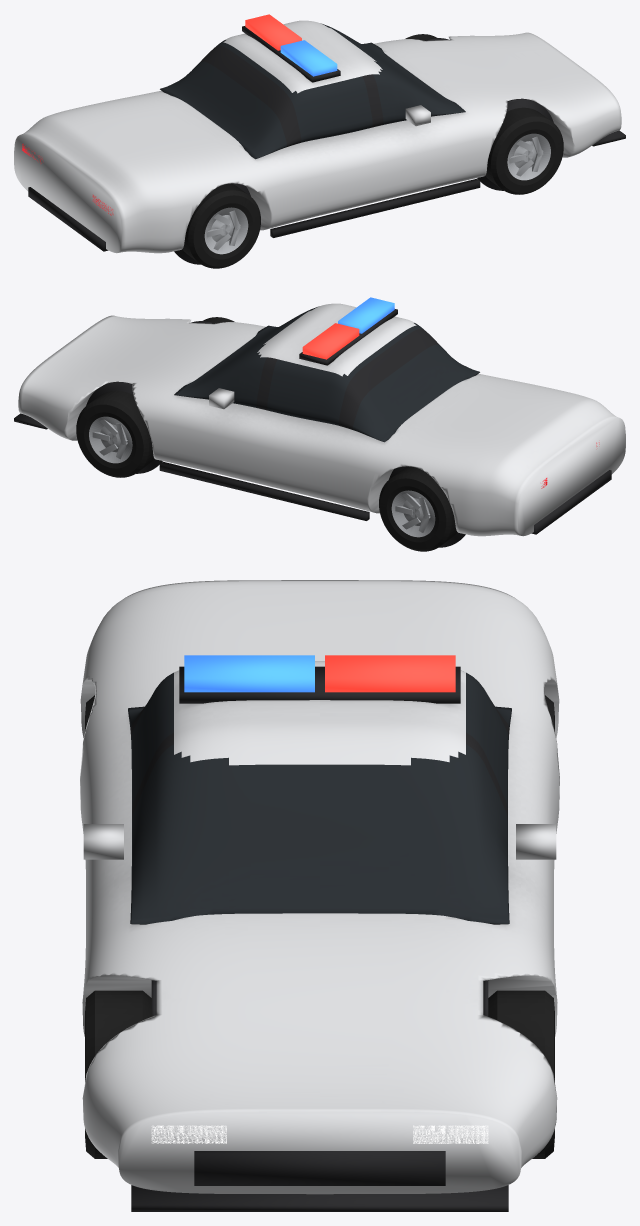
File: pace_car_lod0.glb
3 views of the same model, one above another, from view 1: azimuth 30°, elevation 25°; view 2: azimuth 150°, elevation 25°; view 3: azimuth 270°, elevation 25° (orthographic). The views are drawn at different scales.
Parts seen in each view (by area): view 1: Body, Tire_FR, Tire_RR; view 2: Body, Tire_FL, Tire_RL; view 3: Body, Tire_FL, Tire_FR.
Part boxes in pixels (x1,y1,x2,y2): Body: [14, 14, 625, 264]; Tire_FR: [485, 107, 563, 194]; Tire_RR: [182, 183, 260, 268]; Body: [14, 297, 625, 547]; Tire_FL: [76, 390, 154, 477]; Tire_RL: [379, 466, 457, 551]; Body: [80, 580, 559, 1211]; Tire_FL: [488, 990, 554, 1158]; Tire_FR: [85, 990, 151, 1158].
Size of the model in its own units: 4.71 by 1.41 by 1.91.
